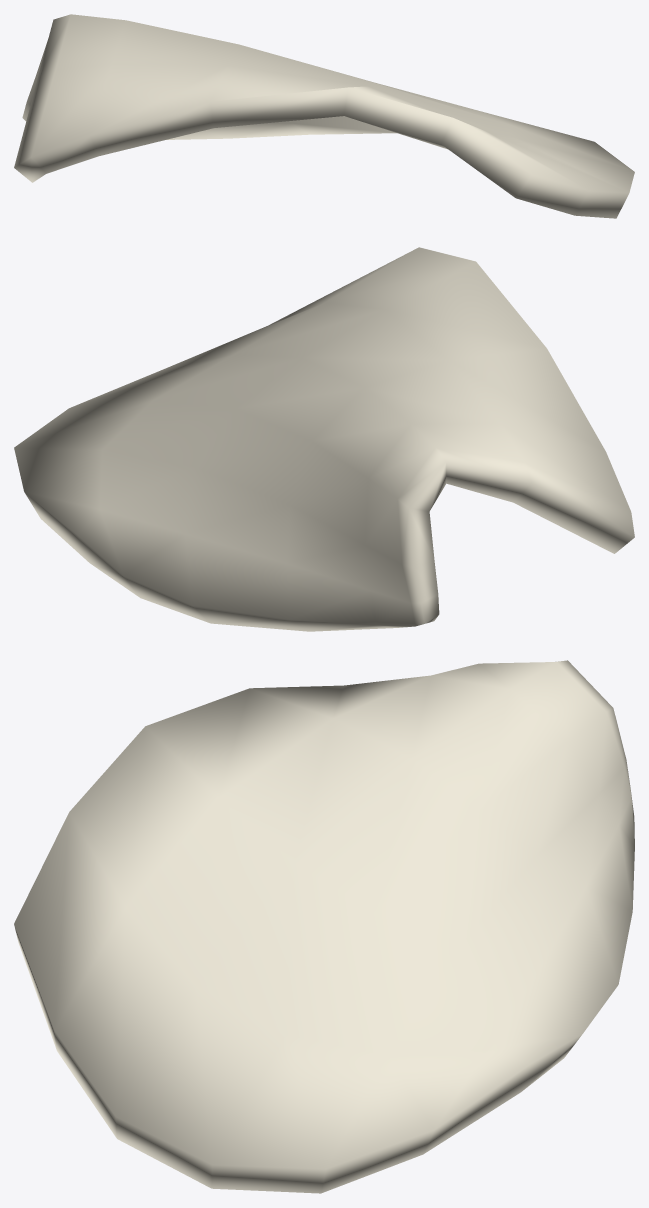
3 views of the same model, one above another, from view 1: azimuth 30°, elevation 25°; view 2: azimuth 150°, elevation 25°; view 3: azimuth 270°, elevation 25° (orthographic). The views are drawn at different scales.
Visible parts, largest first — view 1: ZA_594423a426193611; view 2: ZA_594423a426193611; view 3: ZA_594423a426193611.
Boxes of the visible parts, <box> form: ZA_594423a426193611: <box>14,14,634,218</box>; ZA_594423a426193611: <box>14,247,634,631</box>; ZA_594423a426193611: <box>14,660,634,1193</box>.
Size of the model in its own units: 0.0108 by 0.00388 by 0.00805.
